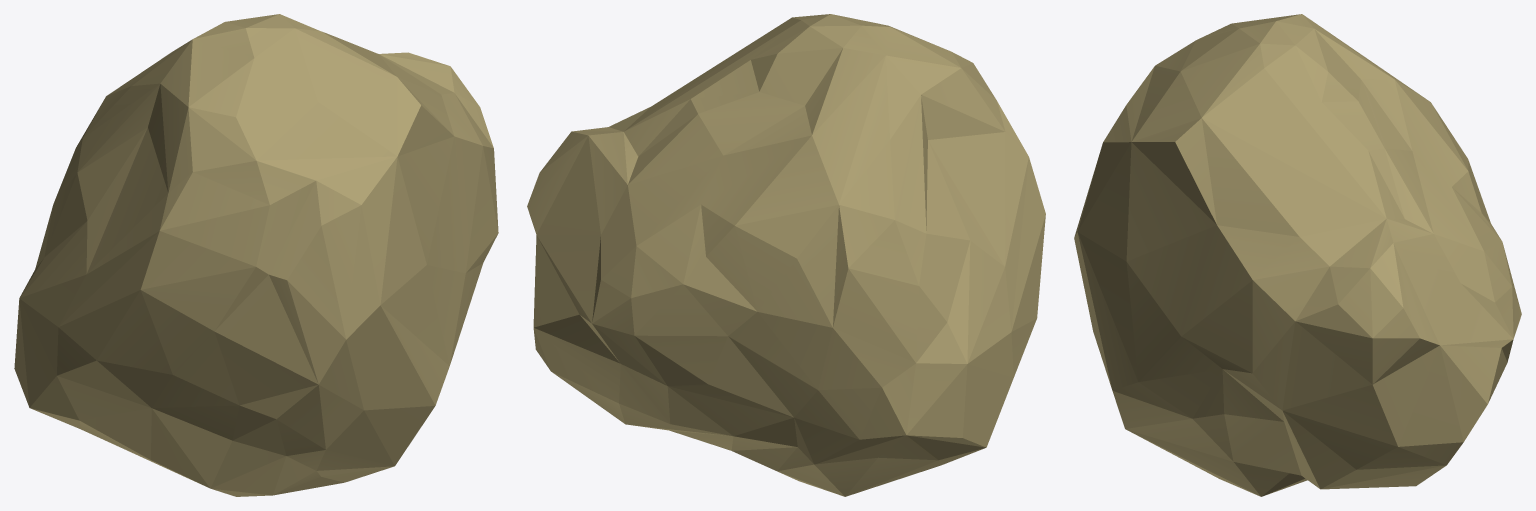
Rendered from SM_rock_87.fbx.
The picture shows the model from 3 angles, left to right: view 1: azimuth 30°, elevation 25°; view 2: azimuth 150°, elevation 25°; view 3: azimuth 270°, elevation 25°; orthographic projection. The views are drawn at different scales.
Parts seen in each view (by area): view 1: rock_87; view 2: rock_87; view 3: rock_87.
Part boxes in pixels (box(x1,y1,x2,y2)): rock_87: box(14, 14, 498, 496); rock_87: box(527, 14, 1045, 496); rock_87: box(1074, 14, 1521, 496).
Size of the model in its own units: 183 by 182 by 163.
